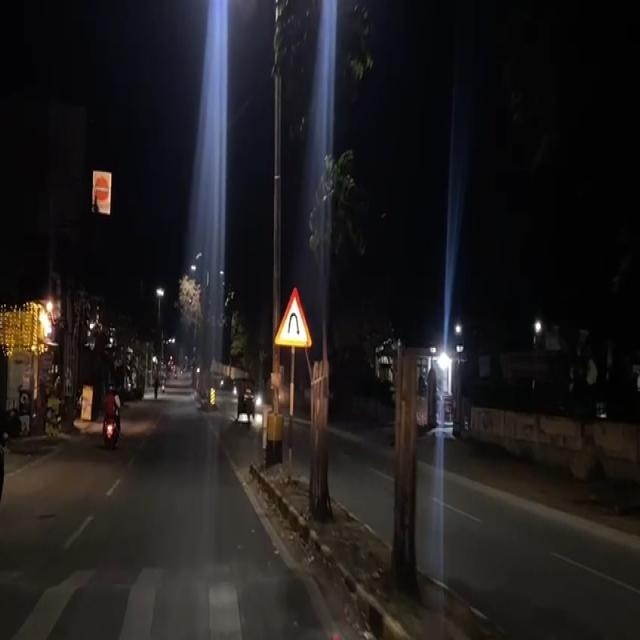bien_nguy_hiem: (275, 284, 312, 350)
